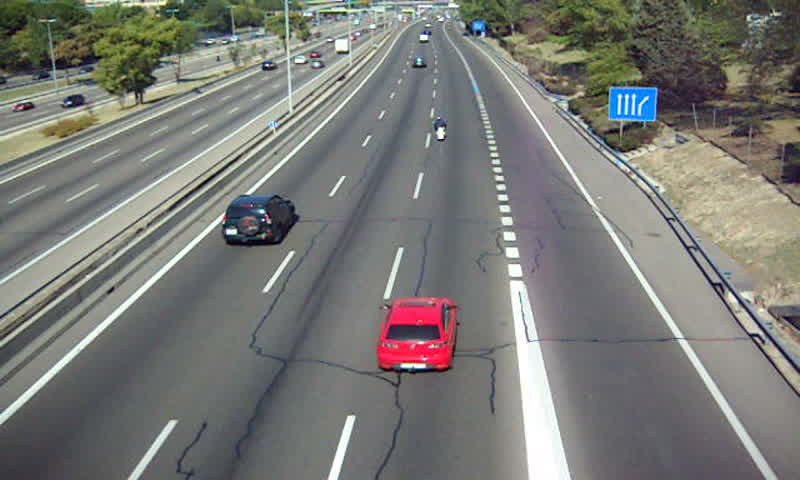car: (378, 298, 456, 371), (223, 194, 294, 245)
motorcycle: (432, 116, 447, 144)
